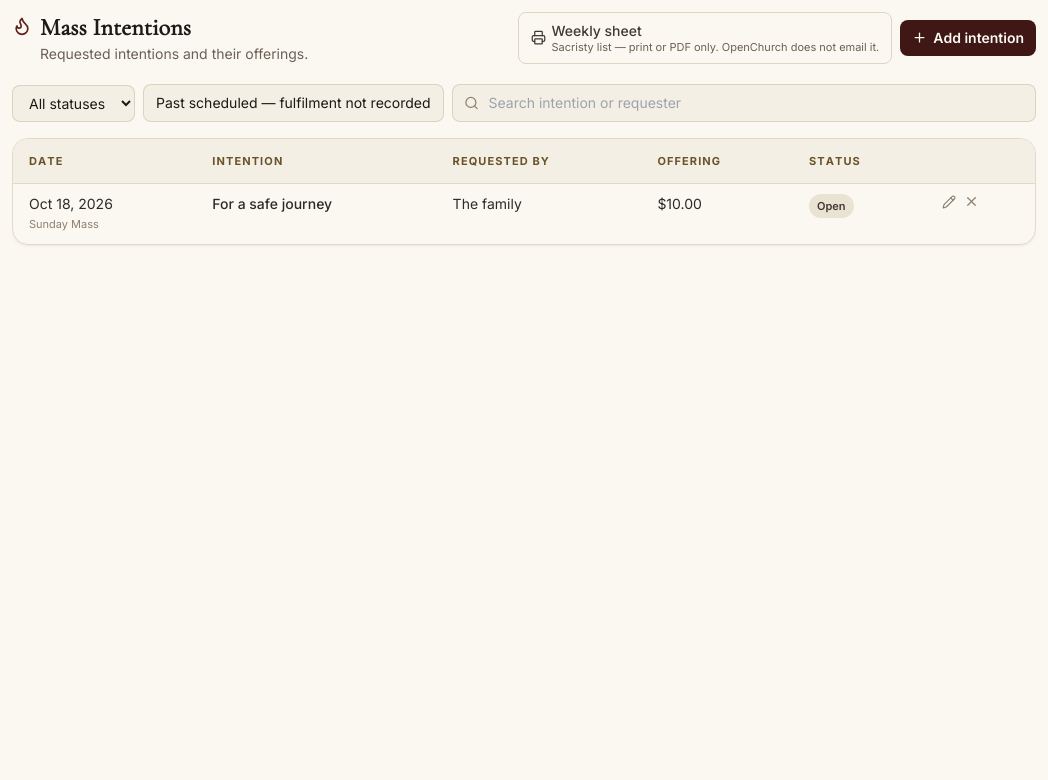
it: SP-063 fulfilment confirmation › shows no toast until the write resolves, and a filter change during the write does not reload the old query
This screenshot has width=1048, height=780.
Expected: the text "For a safe journey" is shown, [196,184,437,244]
Click the button named "Edit intention". click: point(949, 202)
box: [942,194,956,208]
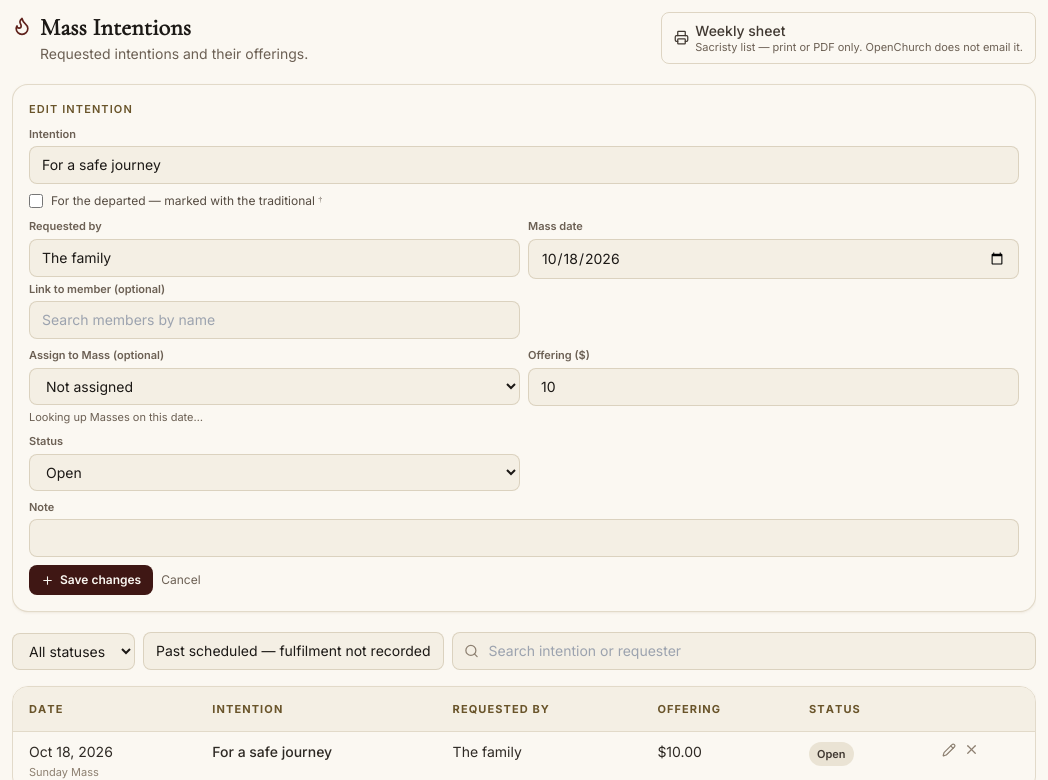
Select "Fulfilled" in the dropdown labelled "Status". click: point(274, 472)
box: [29,454,520,490]
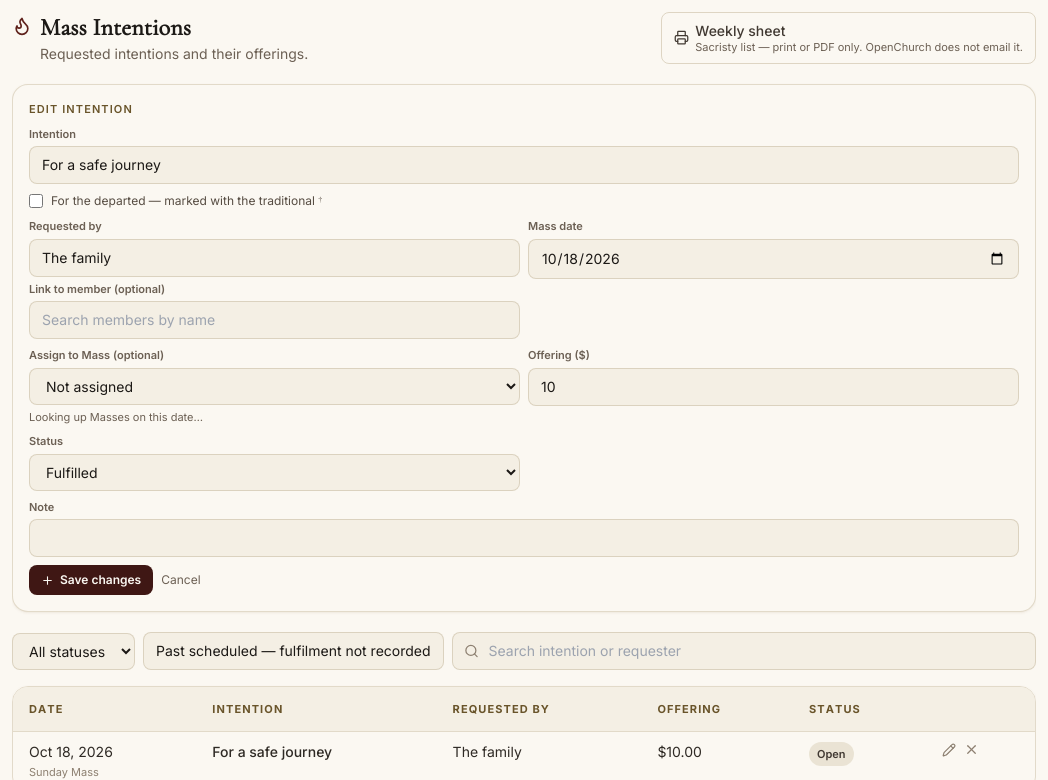
Click the button "Save changes". click: point(91, 580)
box: [29,565,153,595]
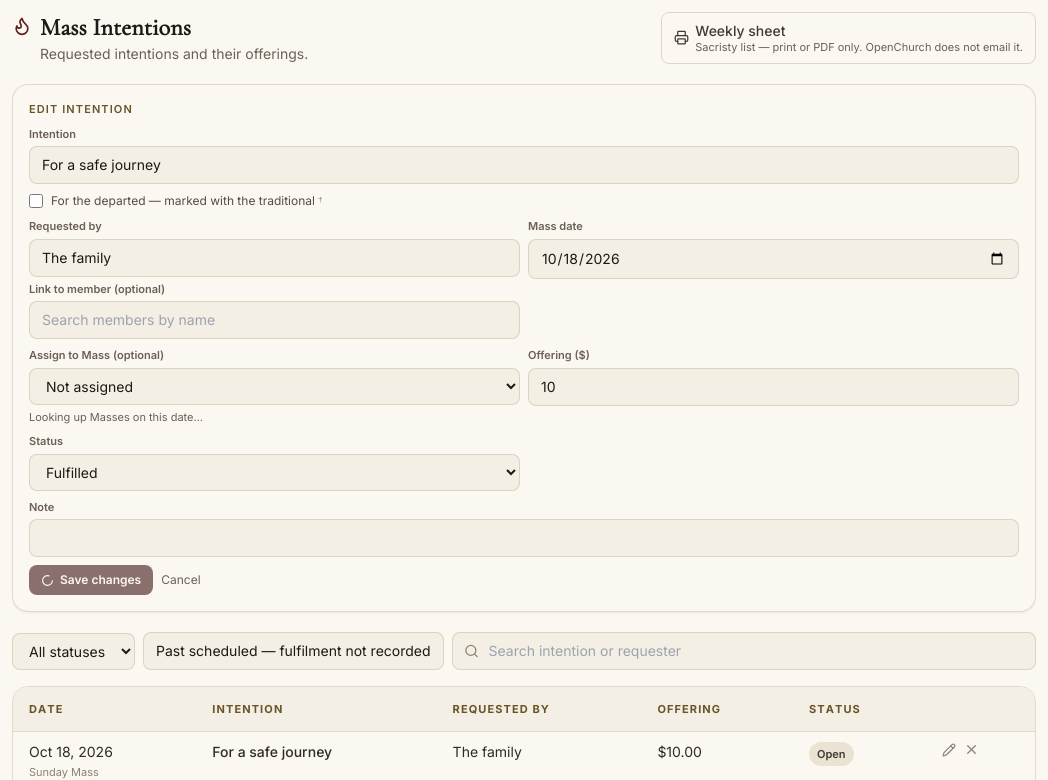
Expected: the text "Marked fulfilled in the book." is not shown
Click the button with test id "mi-past-filter". click: point(293, 651)
box: [143,632,444,670]
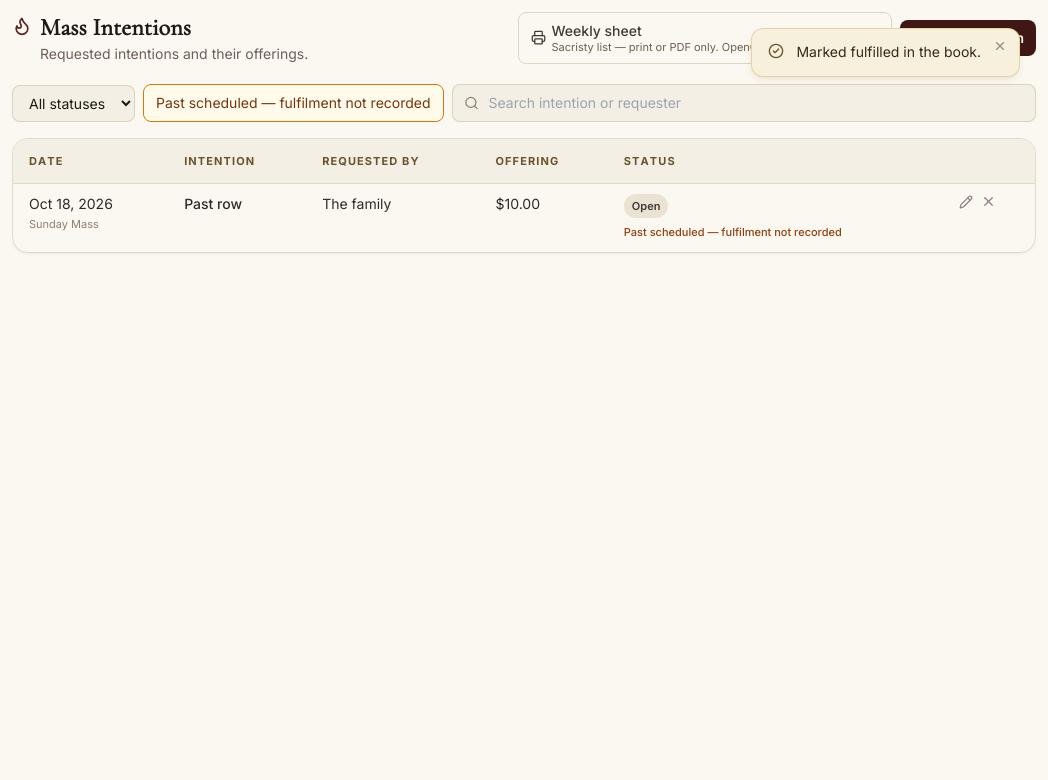
Expected: the text "Marked fulfilled in the book." is shown, [796,41,981,64]
Expected: the text "Past row" is shown, [168,184,306,252]
